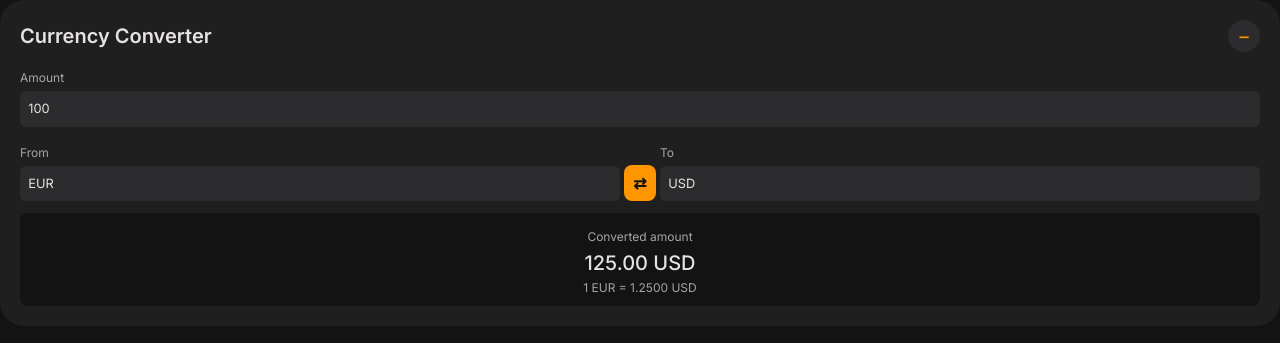
Test: CurrencySection › updates the result when the amount changes
Replace the text in the number field with test id "currency-amount" with "80". click: (640, 109)
box: 20,91 -> 1260,127
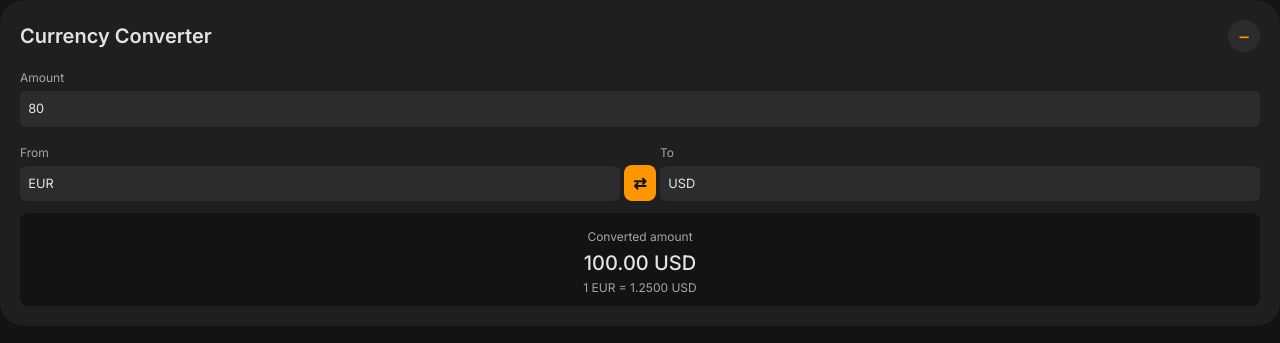
Now the heading with test id "converted-amount" reads "100.00 USD", box 584,251 -> 696,275
